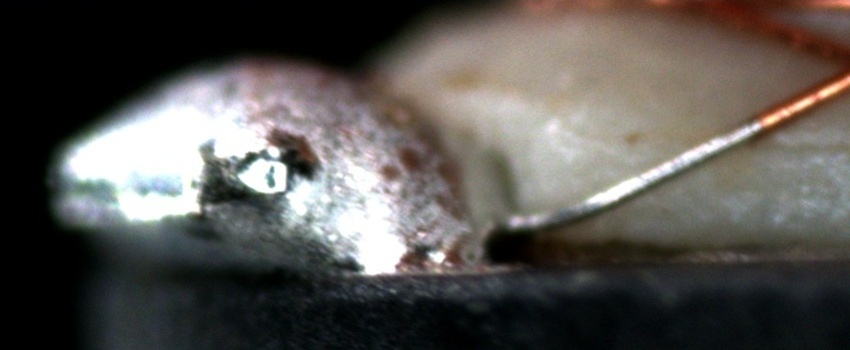DL: (728, 117, 849, 170)
TS: (496, 119, 764, 232)
